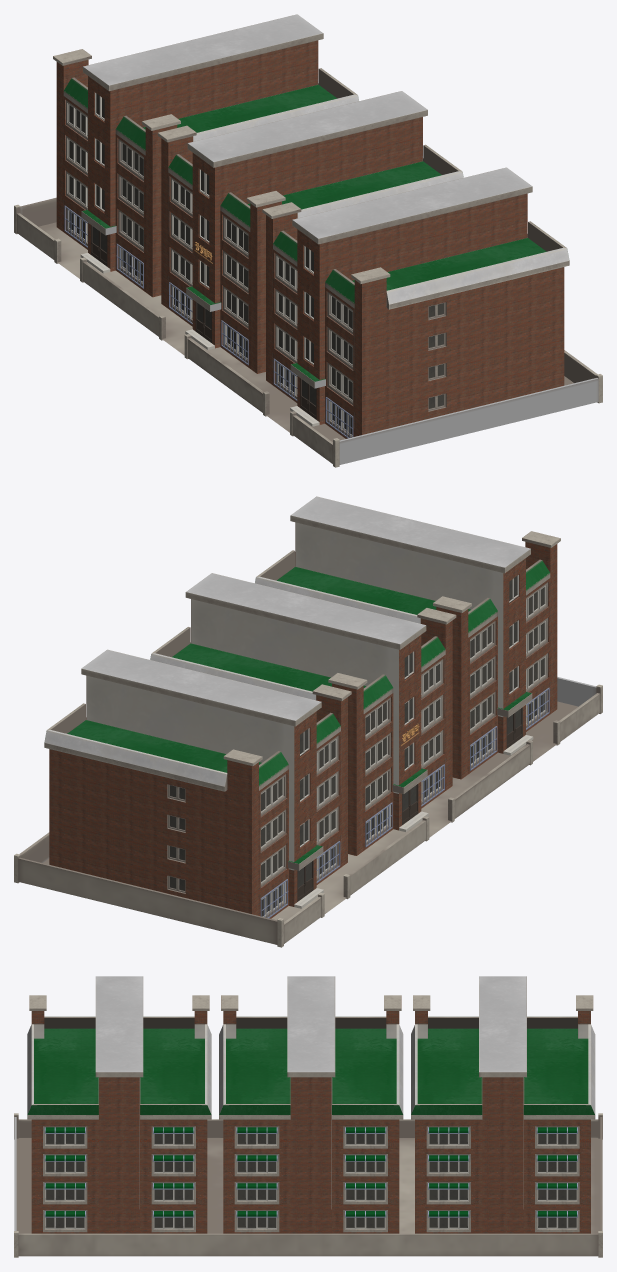
Rendered from S_mansion.fbx.
The picture shows the model from 3 angles, top to bottom: view 1: azimuth 30°, elevation 25°; view 2: azimuth 150°, elevation 25°; view 3: azimuth 270°, elevation 25°; orthographic projection. The views are drawn at different scales.
Visible parts, largest first — view 1: Cube.172, Cube.184, Cube.298, Cube.258, Cube.171, Cube.162, Cube.251, Cube.291, Cube.169, Cube.163, Cube.173, Cube.300 (+22 smaller); view 2: Cube.290, Cube.184, Cube.298, Cube.258, Cube.291, Cube.162, Cube.251, Cube.171, Cube.169, Cube.163, Cube.300, Cube.173 (+21 smaller); view 3: Cube.162, Cube.251, Cube.171, Cube.291, Cube.258, Cube.298, Cube.184, Cube.265, Cube.215, Cube.305, Cube.163, Cube.228 (+46 smaller).
Boxes of the visible parts, <box> form: Cube.172: <box>362,267,564,434</box>; Cube.184: <box>292,167,532,388</box>; Cube.298: <box>83,14,323,235</box>; Cube.258: <box>188,91,427,311</box>; Cube.171: <box>273,221,569,309</box>; Cube.162: <box>20,197,598,464</box>; Cube.251: <box>168,144,463,231</box>; Cube.291: <box>63,68,358,155</box>; Cube.169: <box>16,213,332,463</box>; Cube.163: <box>38,222,573,441</box>; Cube.173: <box>262,202,390,436</box>; Cube.300: <box>53,49,180,296</box>; Cube.290: <box>49,749,251,913</box>; Cube.184: <box>290,496,530,717</box>; Cube.298: <box>81,649,321,870</box>; Cube.258: <box>185,573,425,793</box>; Cube.291: <box>44,703,340,791</box>; Cube.162: <box>18,677,596,944</box>; Cube.251: <box>150,627,445,713</box>; Cube.171: <box>255,550,550,637</box>; Cube.169: <box>284,693,600,943</box>; Cube.163: <box>43,701,577,921</box>; Cube.300: <box>223,684,351,915</box>; Cube.173: <box>433,531,560,779</box>; Cube.162: <box>14,1117,602,1256</box>; Cube.251: <box>219,1016,403,1119</box>; Cube.171: <box>27,1016,211,1119</box>; Cube.291: <box>411,1016,595,1119</box>; Cube.258: <box>287,976,335,1209</box>; Cube.298: <box>479,976,526,1209</box>; Cube.184: <box>95,976,143,1209</box>; Cube.265: <box>223,1119,399,1233</box>; Cube.215: <box>31,1119,207,1233</box>; Cube.305: <box>415,1119,590,1233</box>; Cube.163: <box>16,1138,600,1233</box>; Cube.228: <box>44,1127,194,1217</box>.
Bounding box in the file's own units: 4374 × 2961 × 9095.
Materials: 1 (1 with a texture image).
